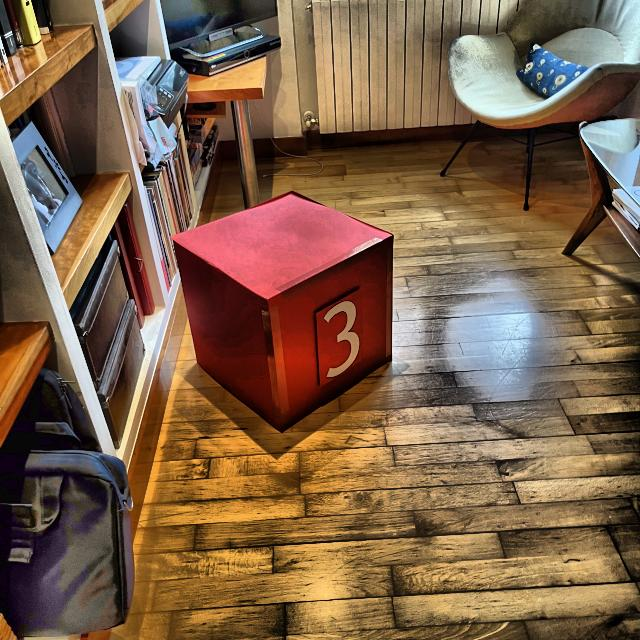red box: (170, 194, 392, 436)
three: (321, 298, 362, 380)
